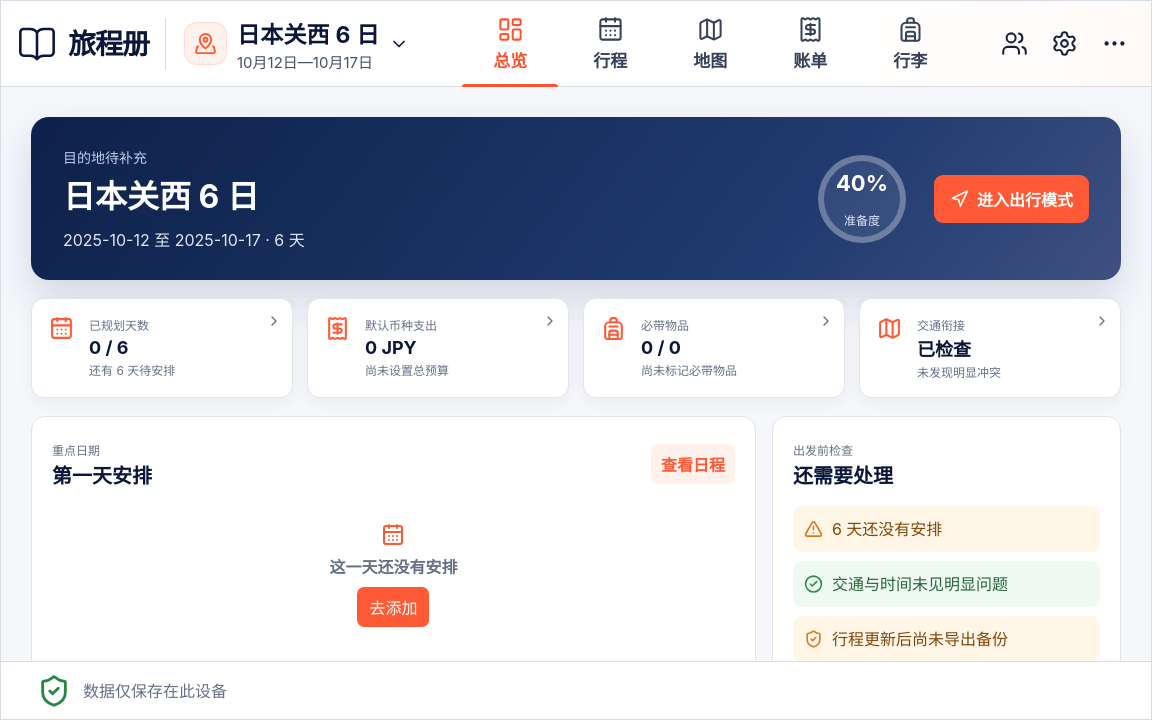
Test: App › explains how to unlock transport instead of showing a dead control
The width and height of the screenshot is (1152, 720).
Step 1. Click the button named "管理安排" → (1114, 44), box [1093,22,1135,64]
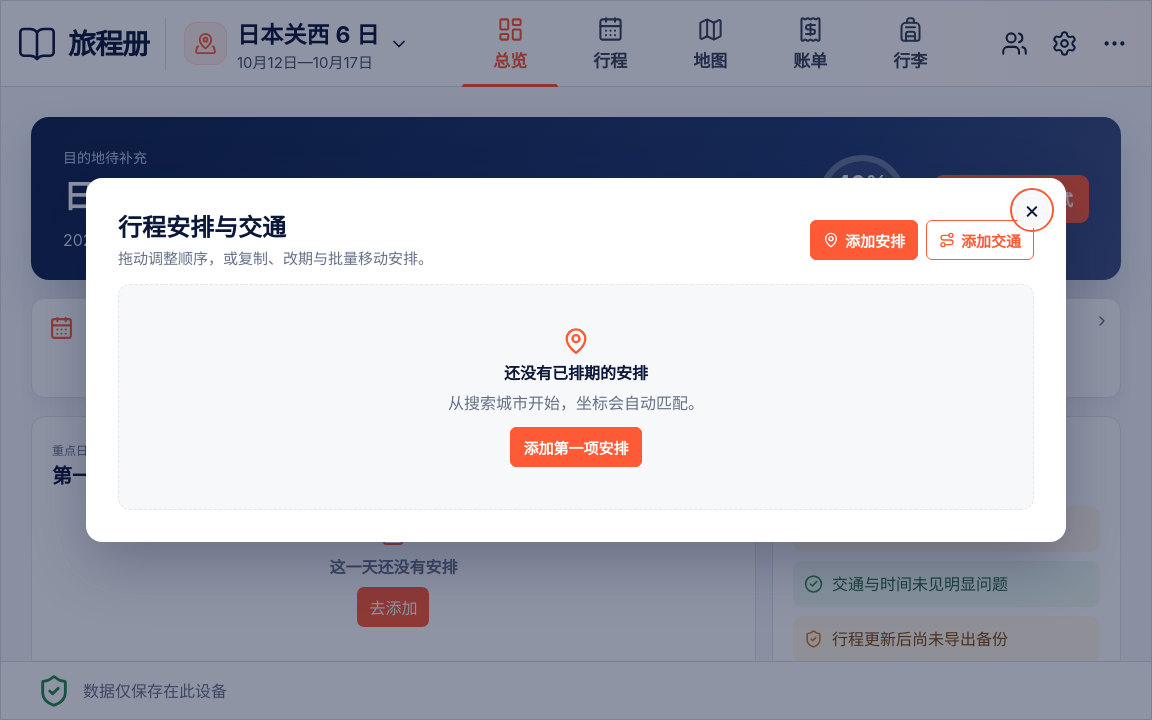
Result: the button "添加交通" is enabled
Step 2. Click the button "添加交通" → (980, 240), box [926,220,1034,260]
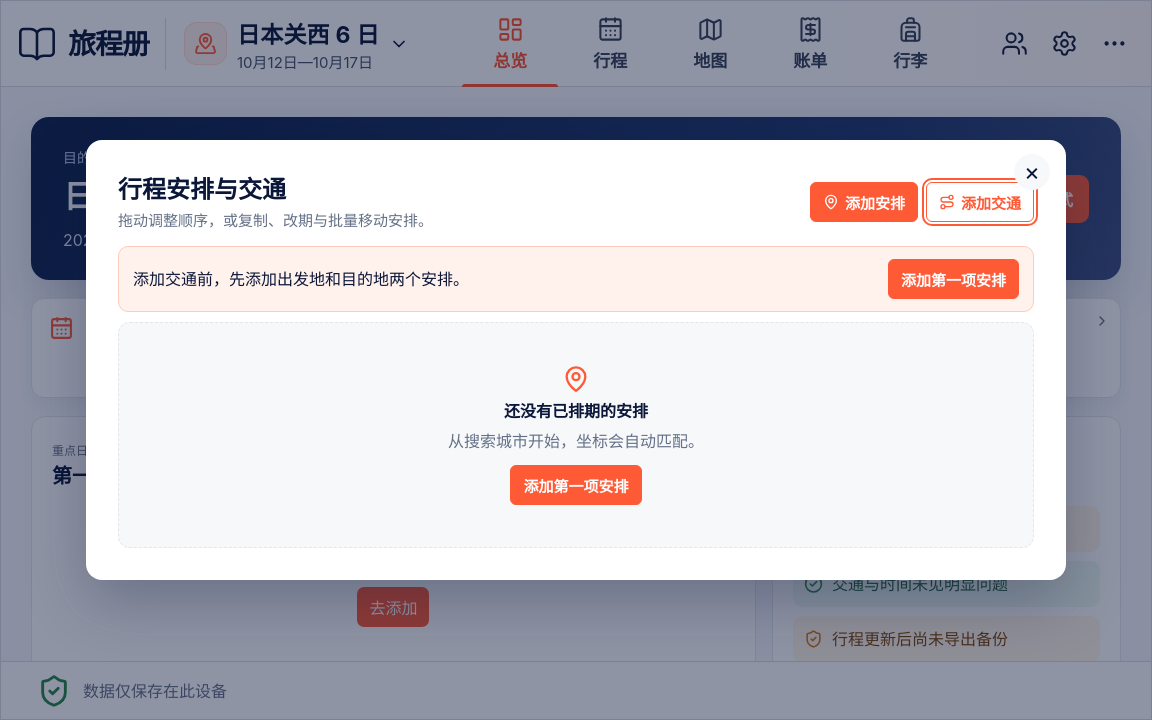
Result: the message shows "先添加出发地和目的地两个安排" at [133,269,469,289]
Result: the button "添加第一项安排" in the row of "添加交通前，先添加出发地和目的地两个安排。" is shown at [888,259,1019,299]
